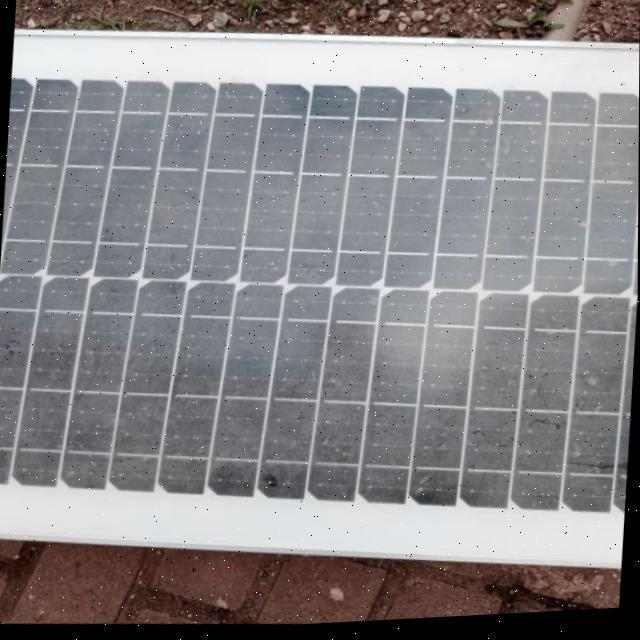Anomaly Solar Panel: (1, 41, 640, 558)
Surface Contaminant: (2, 66, 639, 532)
